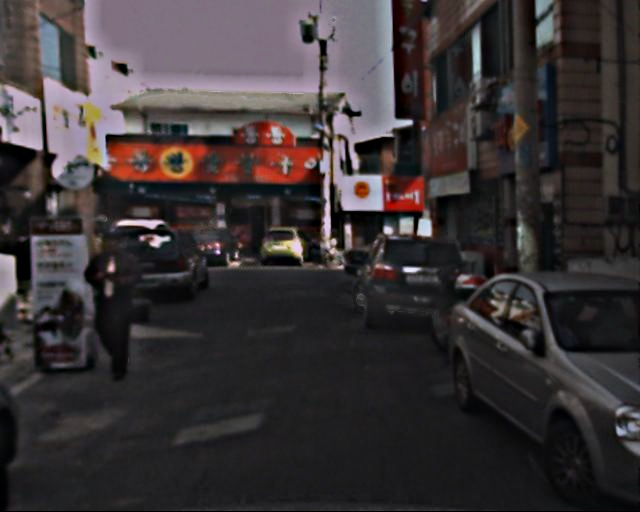person: (86, 230, 154, 381)
